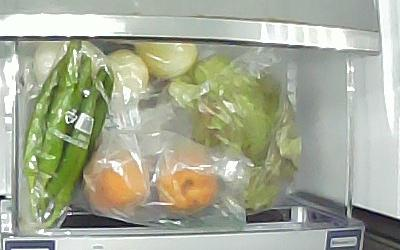peach_vinyl: (157, 152, 218, 215), (86, 150, 148, 210)
